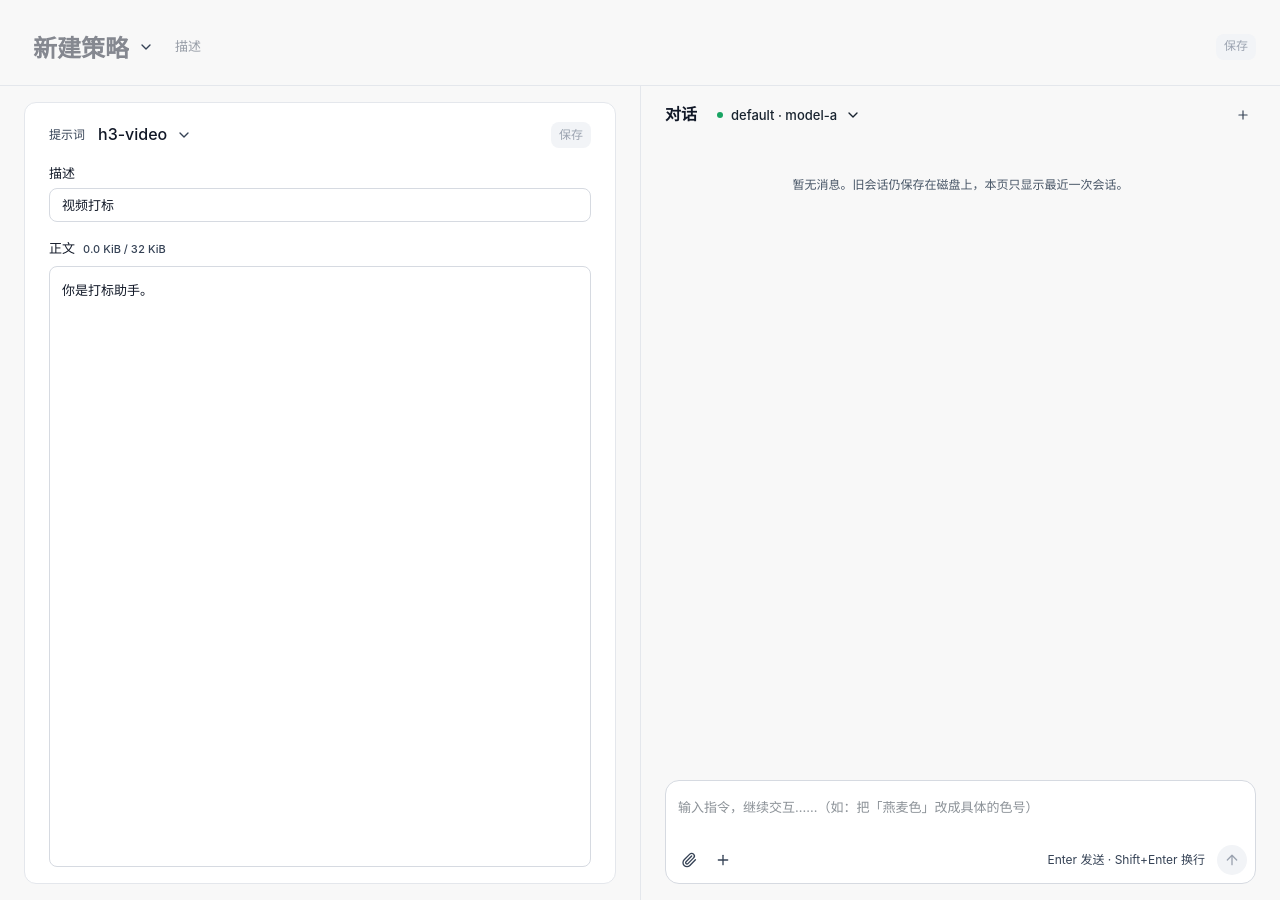
Scenario: PromptWorkbench › 端点激活期间禁止发送，失败后恢复原端点与输入
Expected: the field named "名称" holds "h3-video", [93, 119, 196, 151]
Type "保留指令" into the text box named "打标指令" at (960, 817), box [674, 789, 1247, 845]
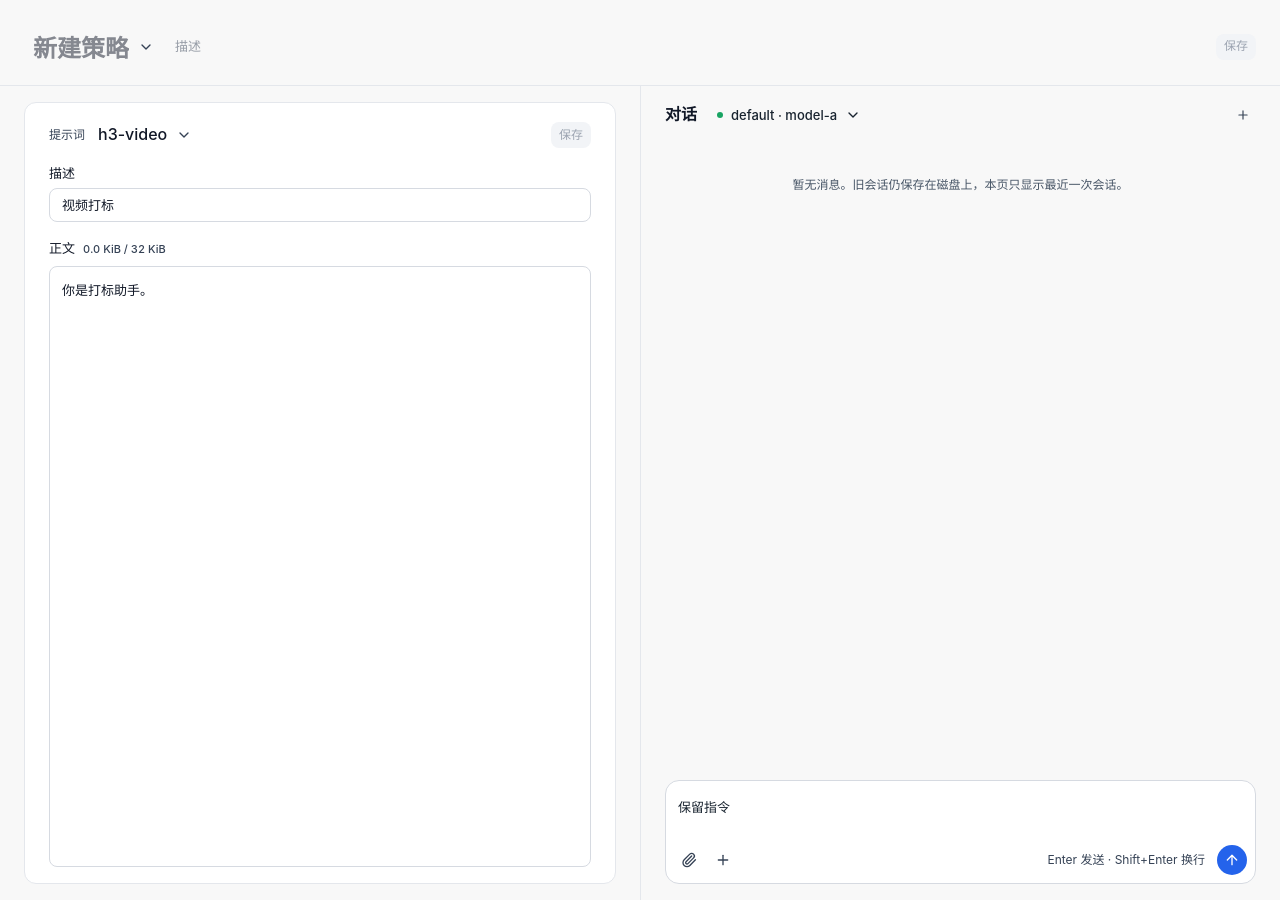
Click the button with aria-label "端点配置切换器" at (789, 115), box [709, 102, 869, 128]
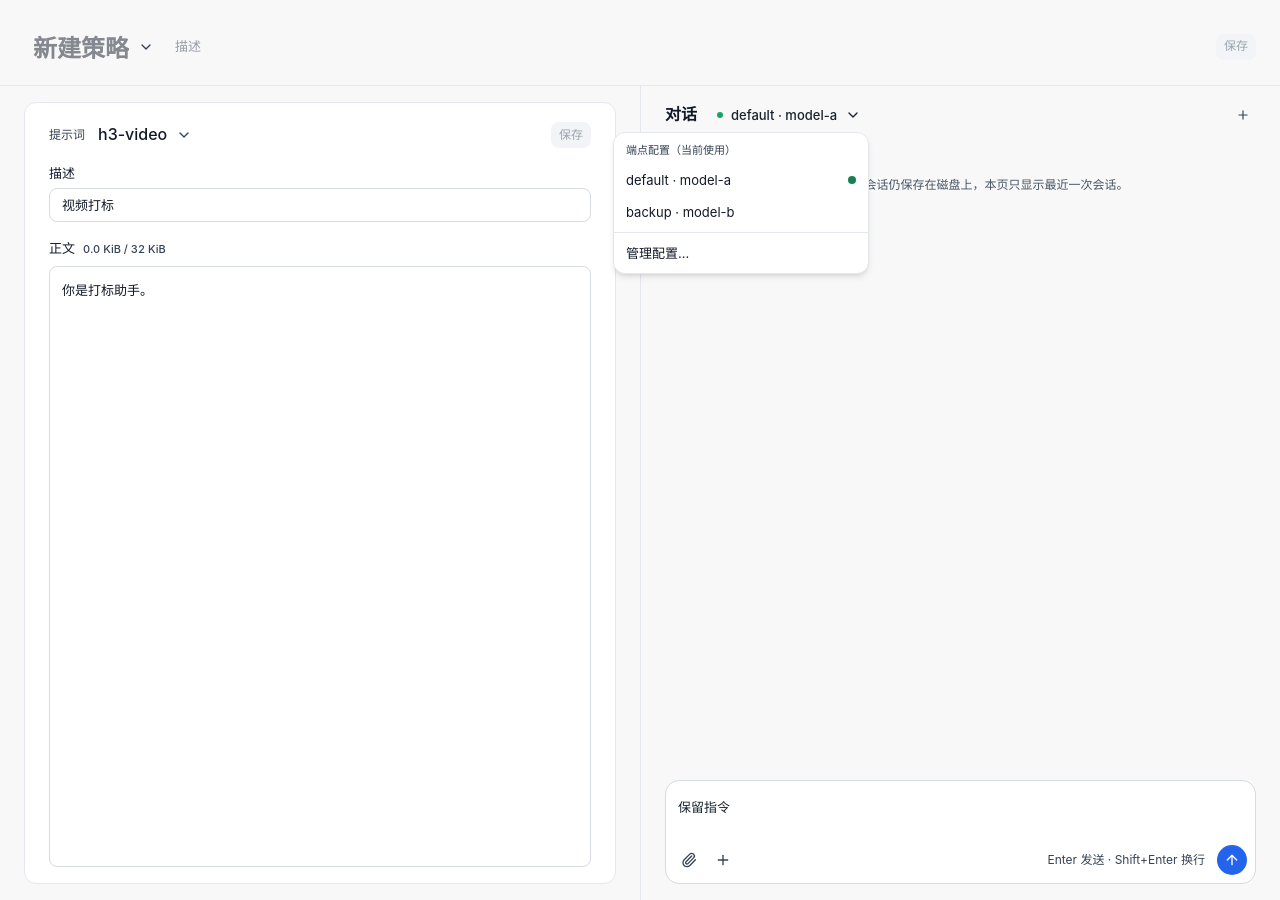
Click the menu item "backup · model-b" at (680, 212), box [626, 204, 734, 220]
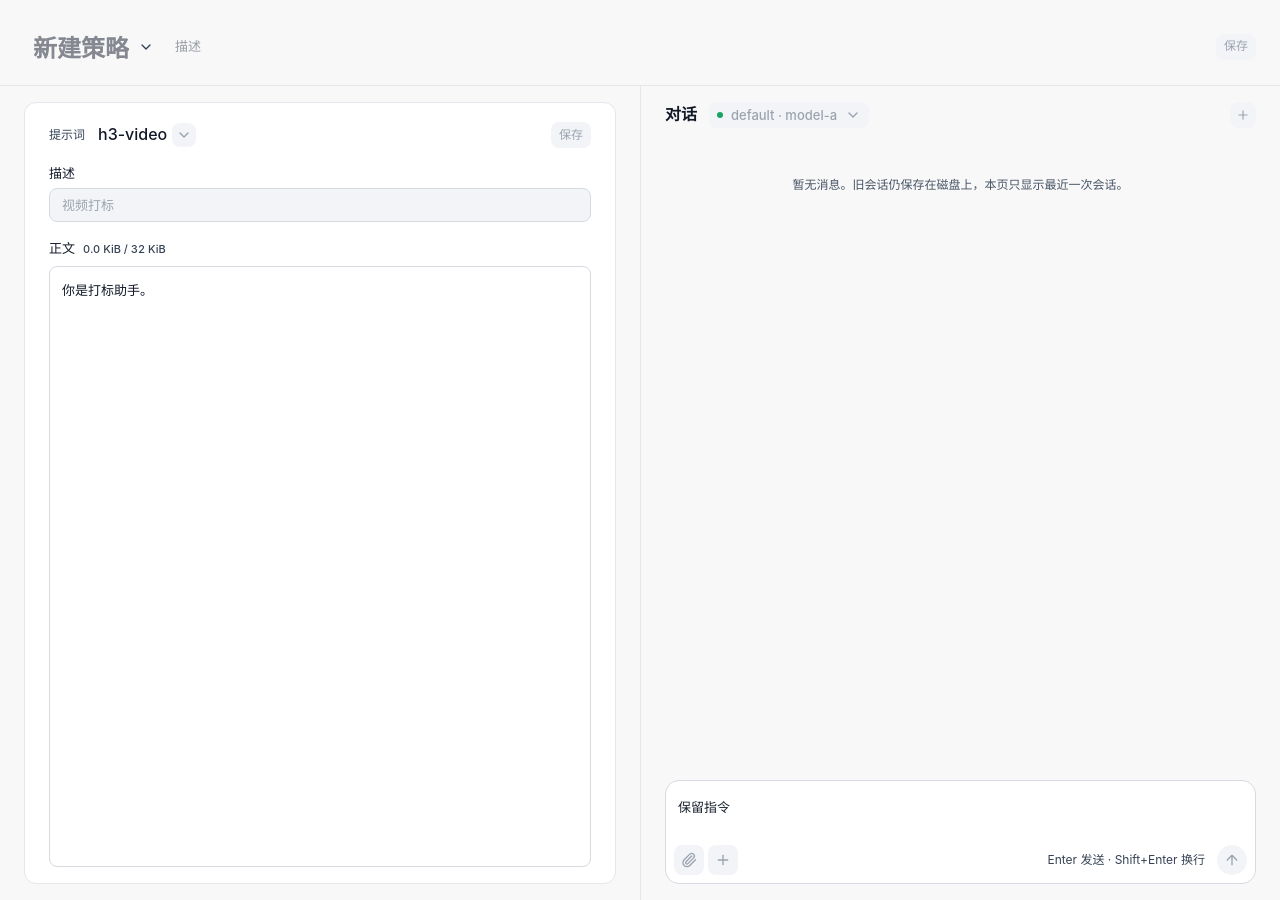
Now the button with aria-label "端点配置切换器" is disabled, box [709, 102, 869, 128]
Now the button named "发送" is disabled, box [1217, 845, 1247, 875]
Press Enter in the text box named "打标指令", box [674, 789, 1247, 845]
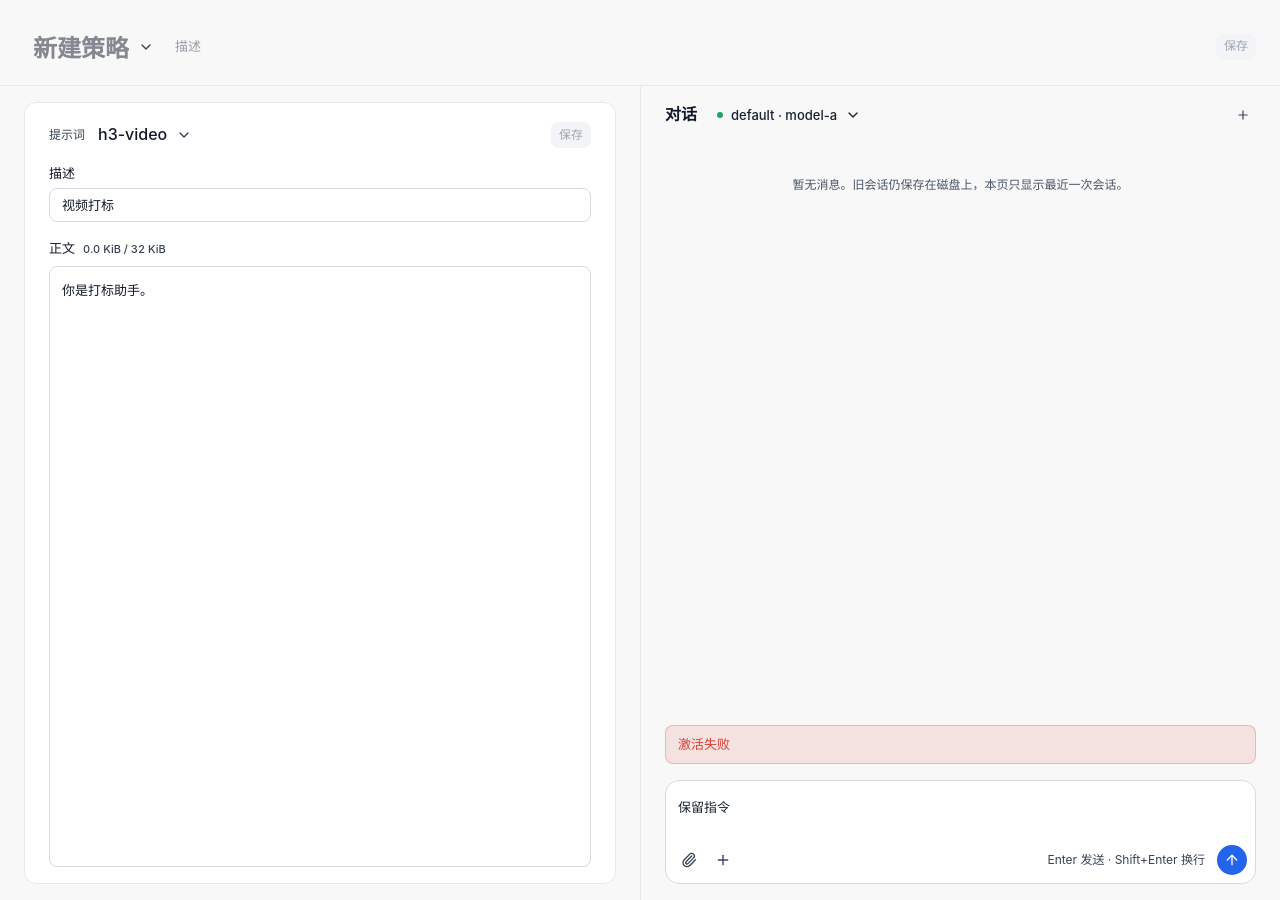
Expected: the text "default · model-a" is shown, [731, 105, 837, 125]
Now the text "激活失败" is shown, box [678, 734, 730, 755]
Now the button named "发送" is enabled, box [1217, 845, 1247, 875]
